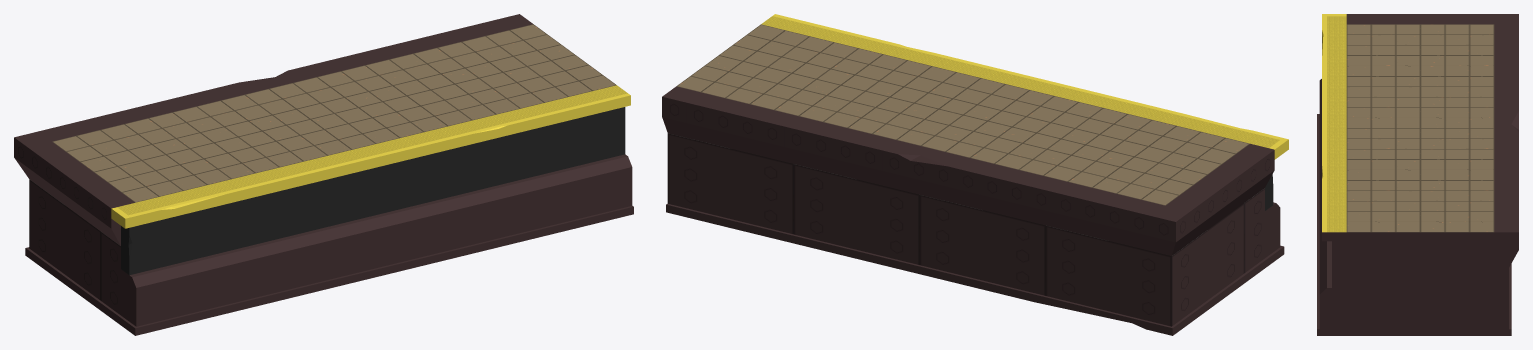
Rendered from SW_ENV_EL_StationBaseEnd.fbx.
The picture shows the model from 3 angles, left to right: view 1: azimuth 30°, elevation 25°; view 2: azimuth 150°, elevation 25°; view 3: azimuth 270°, elevation 25°; orthographic projection. The views are drawn at different scales.
Parts seen in each view (by area): view 1: SW_ENV_EL_StationBaseEnd; view 2: SW_ENV_EL_StationBaseEnd; view 3: SW_ENV_EL_StationBaseEnd.
Boxes of the visible parts, bbox=[...] form: SW_ENV_EL_StationBaseEnd: bbox=[14, 14, 633, 335]; SW_ENV_EL_StationBaseEnd: bbox=[662, 14, 1288, 335]; SW_ENV_EL_StationBaseEnd: bbox=[1317, 14, 1518, 335].
Bounding box in the file's own units: 1051 × 232 × 410.
